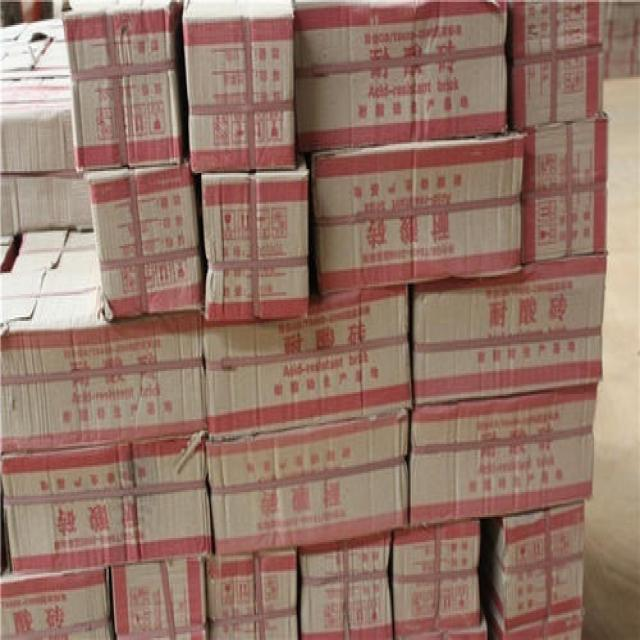box: (0, 265, 206, 454), (308, 133, 527, 296), (202, 284, 411, 442), (293, 0, 509, 152), (207, 407, 411, 555), (0, 434, 212, 575), (410, 256, 608, 406), (410, 384, 599, 529), (61, 0, 186, 173), (83, 152, 205, 321), (192, 152, 311, 323), (180, 0, 297, 173), (524, 110, 609, 265), (483, 502, 585, 630), (508, 0, 604, 135), (393, 519, 483, 640), (296, 532, 394, 640), (0, 565, 115, 640), (207, 550, 300, 640), (110, 557, 209, 640), (0, 77, 76, 173), (0, 173, 93, 234), (0, 17, 69, 77), (483, 602, 584, 640), (394, 602, 492, 640), (10, 233, 97, 271), (602, 0, 640, 77), (0, 234, 22, 271)
